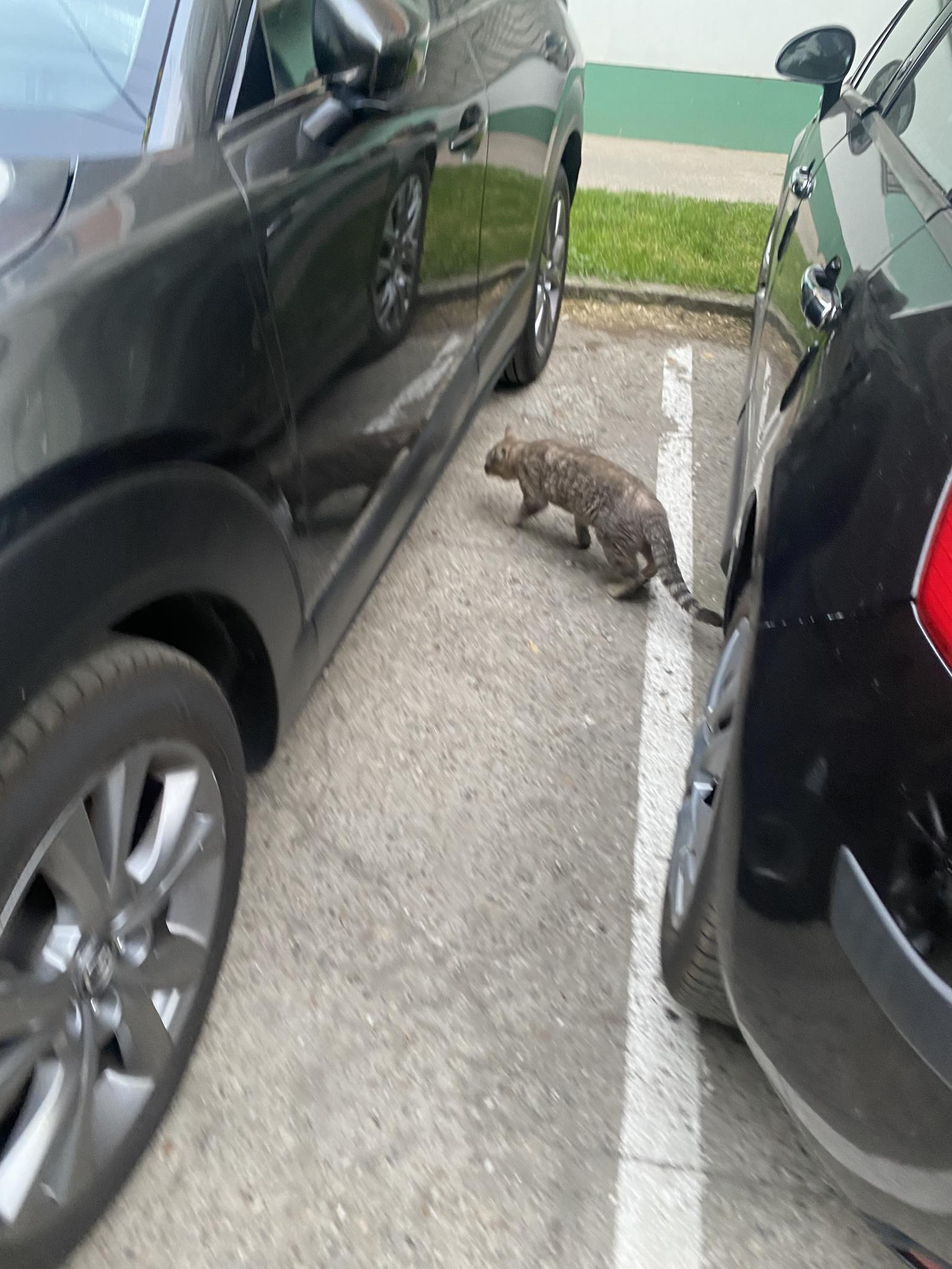macka: (483, 423, 725, 626)
